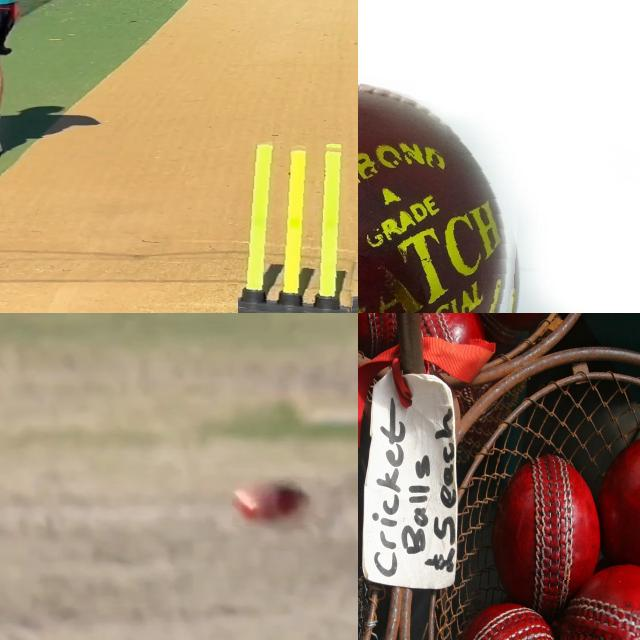Cricket ball: (358, 80, 528, 313), (559, 557, 640, 640), (232, 477, 315, 527)
Stumps: (237, 140, 358, 313)
